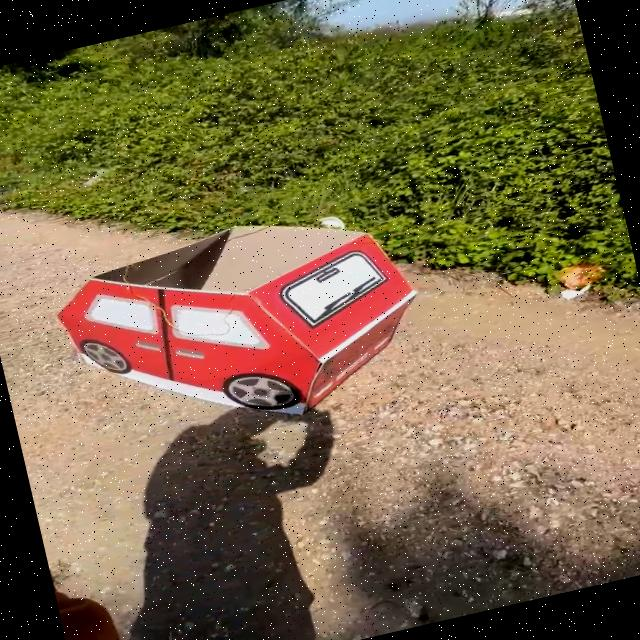red_car: (27, 180, 452, 466)
